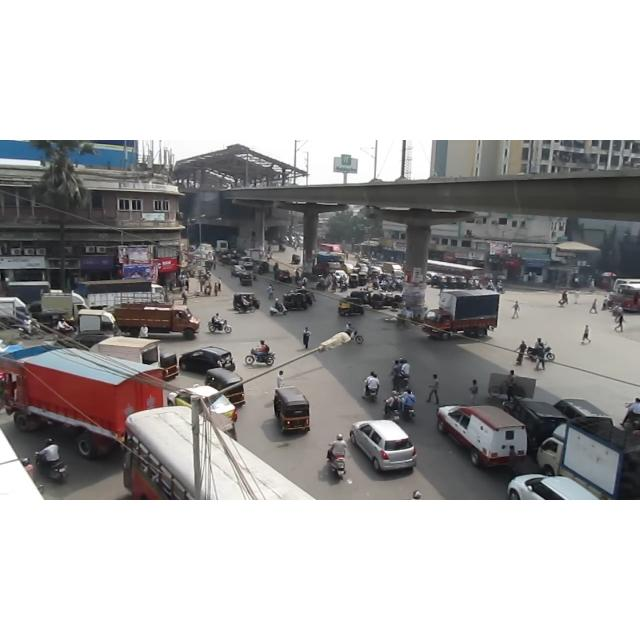auto: (271, 385, 315, 446), (203, 365, 253, 407), (336, 294, 368, 320), (282, 290, 310, 312), (238, 270, 255, 290)
car: (436, 404, 534, 471), (349, 420, 417, 472), (503, 400, 568, 452), (167, 385, 237, 421), (508, 474, 598, 500), (179, 346, 235, 374), (231, 265, 247, 277), (332, 269, 348, 279)
truck: (1, 339, 178, 461), (536, 422, 640, 500), (423, 282, 501, 344), (72, 275, 181, 312), (116, 304, 203, 338), (41, 289, 91, 323), (78, 308, 120, 335), (214, 233, 230, 256), (246, 249, 264, 262)
